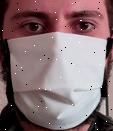with_mask: (2, 1, 113, 131)
